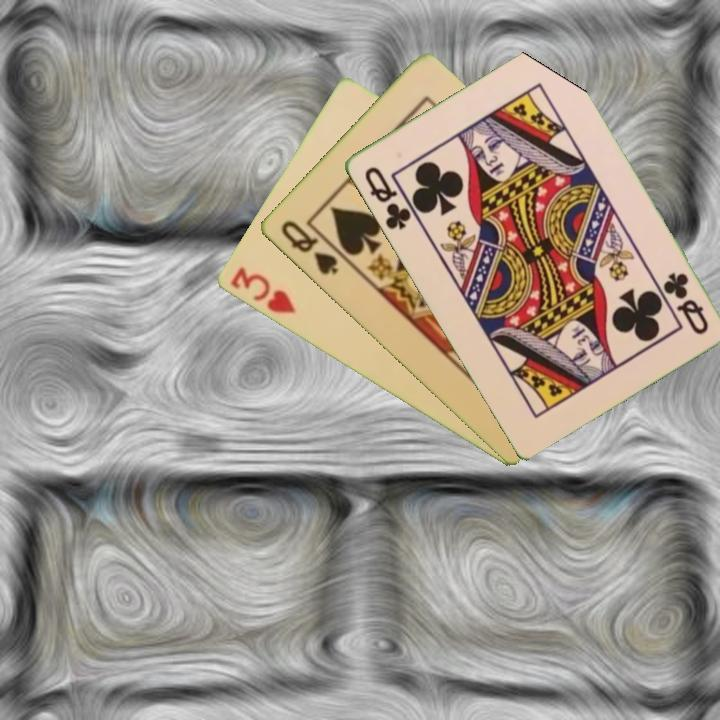3h: (226, 263, 299, 317)
Qc: (360, 162, 414, 233), (658, 268, 711, 338)
Qs: (277, 216, 341, 278)
